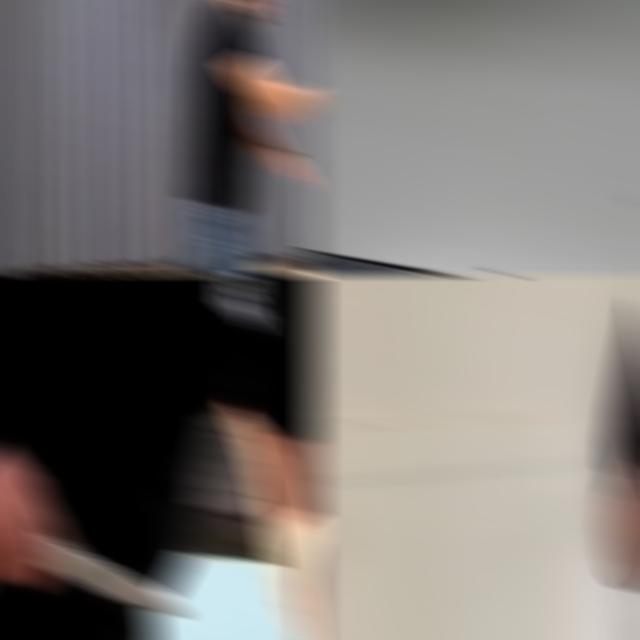Knife: (34, 526, 186, 618)
Knife_Handle: (0, 461, 186, 619)
